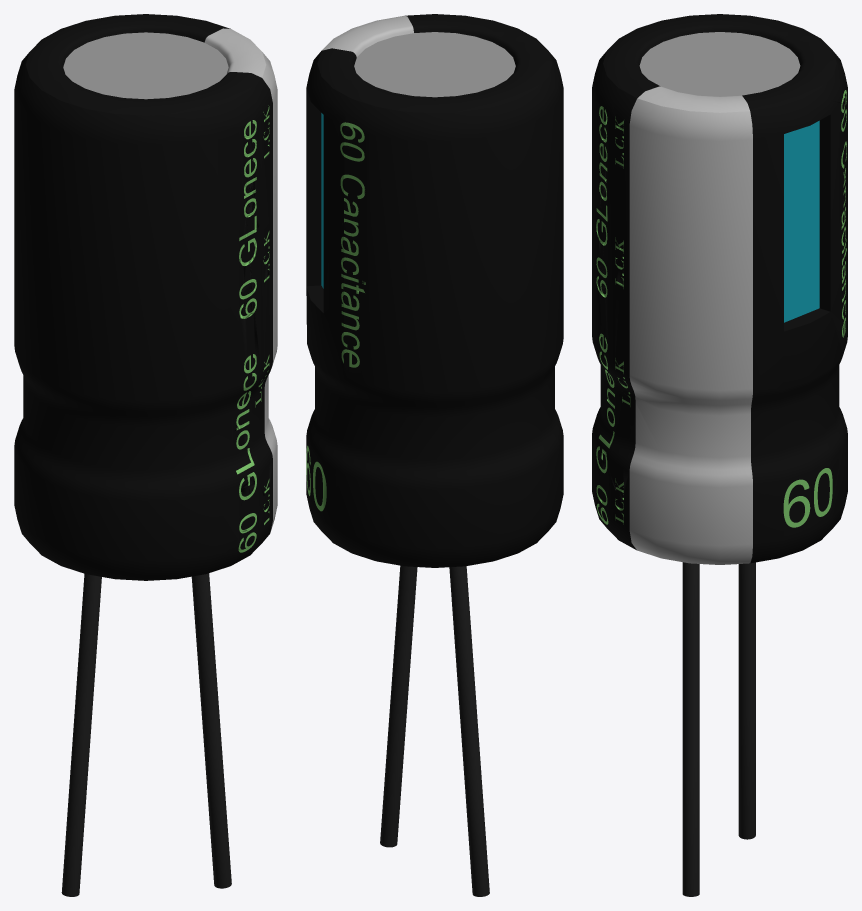
The model's file is capacitance_60_once.FBX.
3 renders of one model, left to right at view 1: azimuth 30°, elevation 25°; view 2: azimuth 150°, elevation 25°; view 3: azimuth 270°, elevation 25°, orthographic. The views are drawn at different scales.
Parts seen in each view (by area): view 1: ChamferCyl001; view 2: ChamferCyl001, Box001; view 3: ChamferCyl001, Box001.
Boxes of the visible parts, box(x1,y1,x2,y2) form: ChamferCyl001: box(14, 14, 277, 896); ChamferCyl001: box(306, 14, 563, 896); Box001: box(321, 113, 323, 288); ChamferCyl001: box(592, 14, 847, 896); Box001: box(784, 120, 819, 322).
Bounding box in the file's own units: 29.71 × 103 × 29.71.
